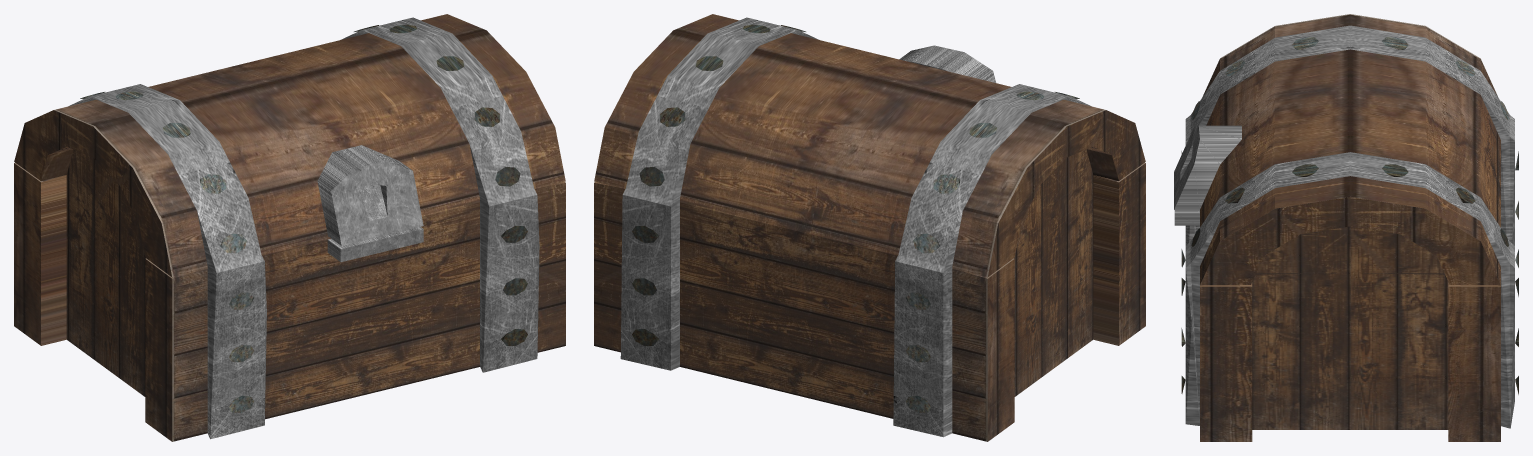
Rendered from chest2.FBX.
The picture shows the model from 3 angles, left to right: view 1: azimuth 30°, elevation 25°; view 2: azimuth 150°, elevation 25°; view 3: azimuth 270°, elevation 25°; orthographic projection. The views are drawn at different scales.
Visible parts, largest first — view 1: base, tampa; view 2: base, tampa; view 3: tampa, base.
Boxes of the visible parts, x1,y1,x2,y2 form: base: (14,162,565,441); tampa: (14,14,565,277); base: (594,162,1145,441); tampa: (594,14,1145,277); tampa: (1174,14,1509,285); base: (1174,115,1518,441).
Size of the model in its own units: 57.49 by 36.9 by 45.84.
Materials: 3 (3 with a texture image).
